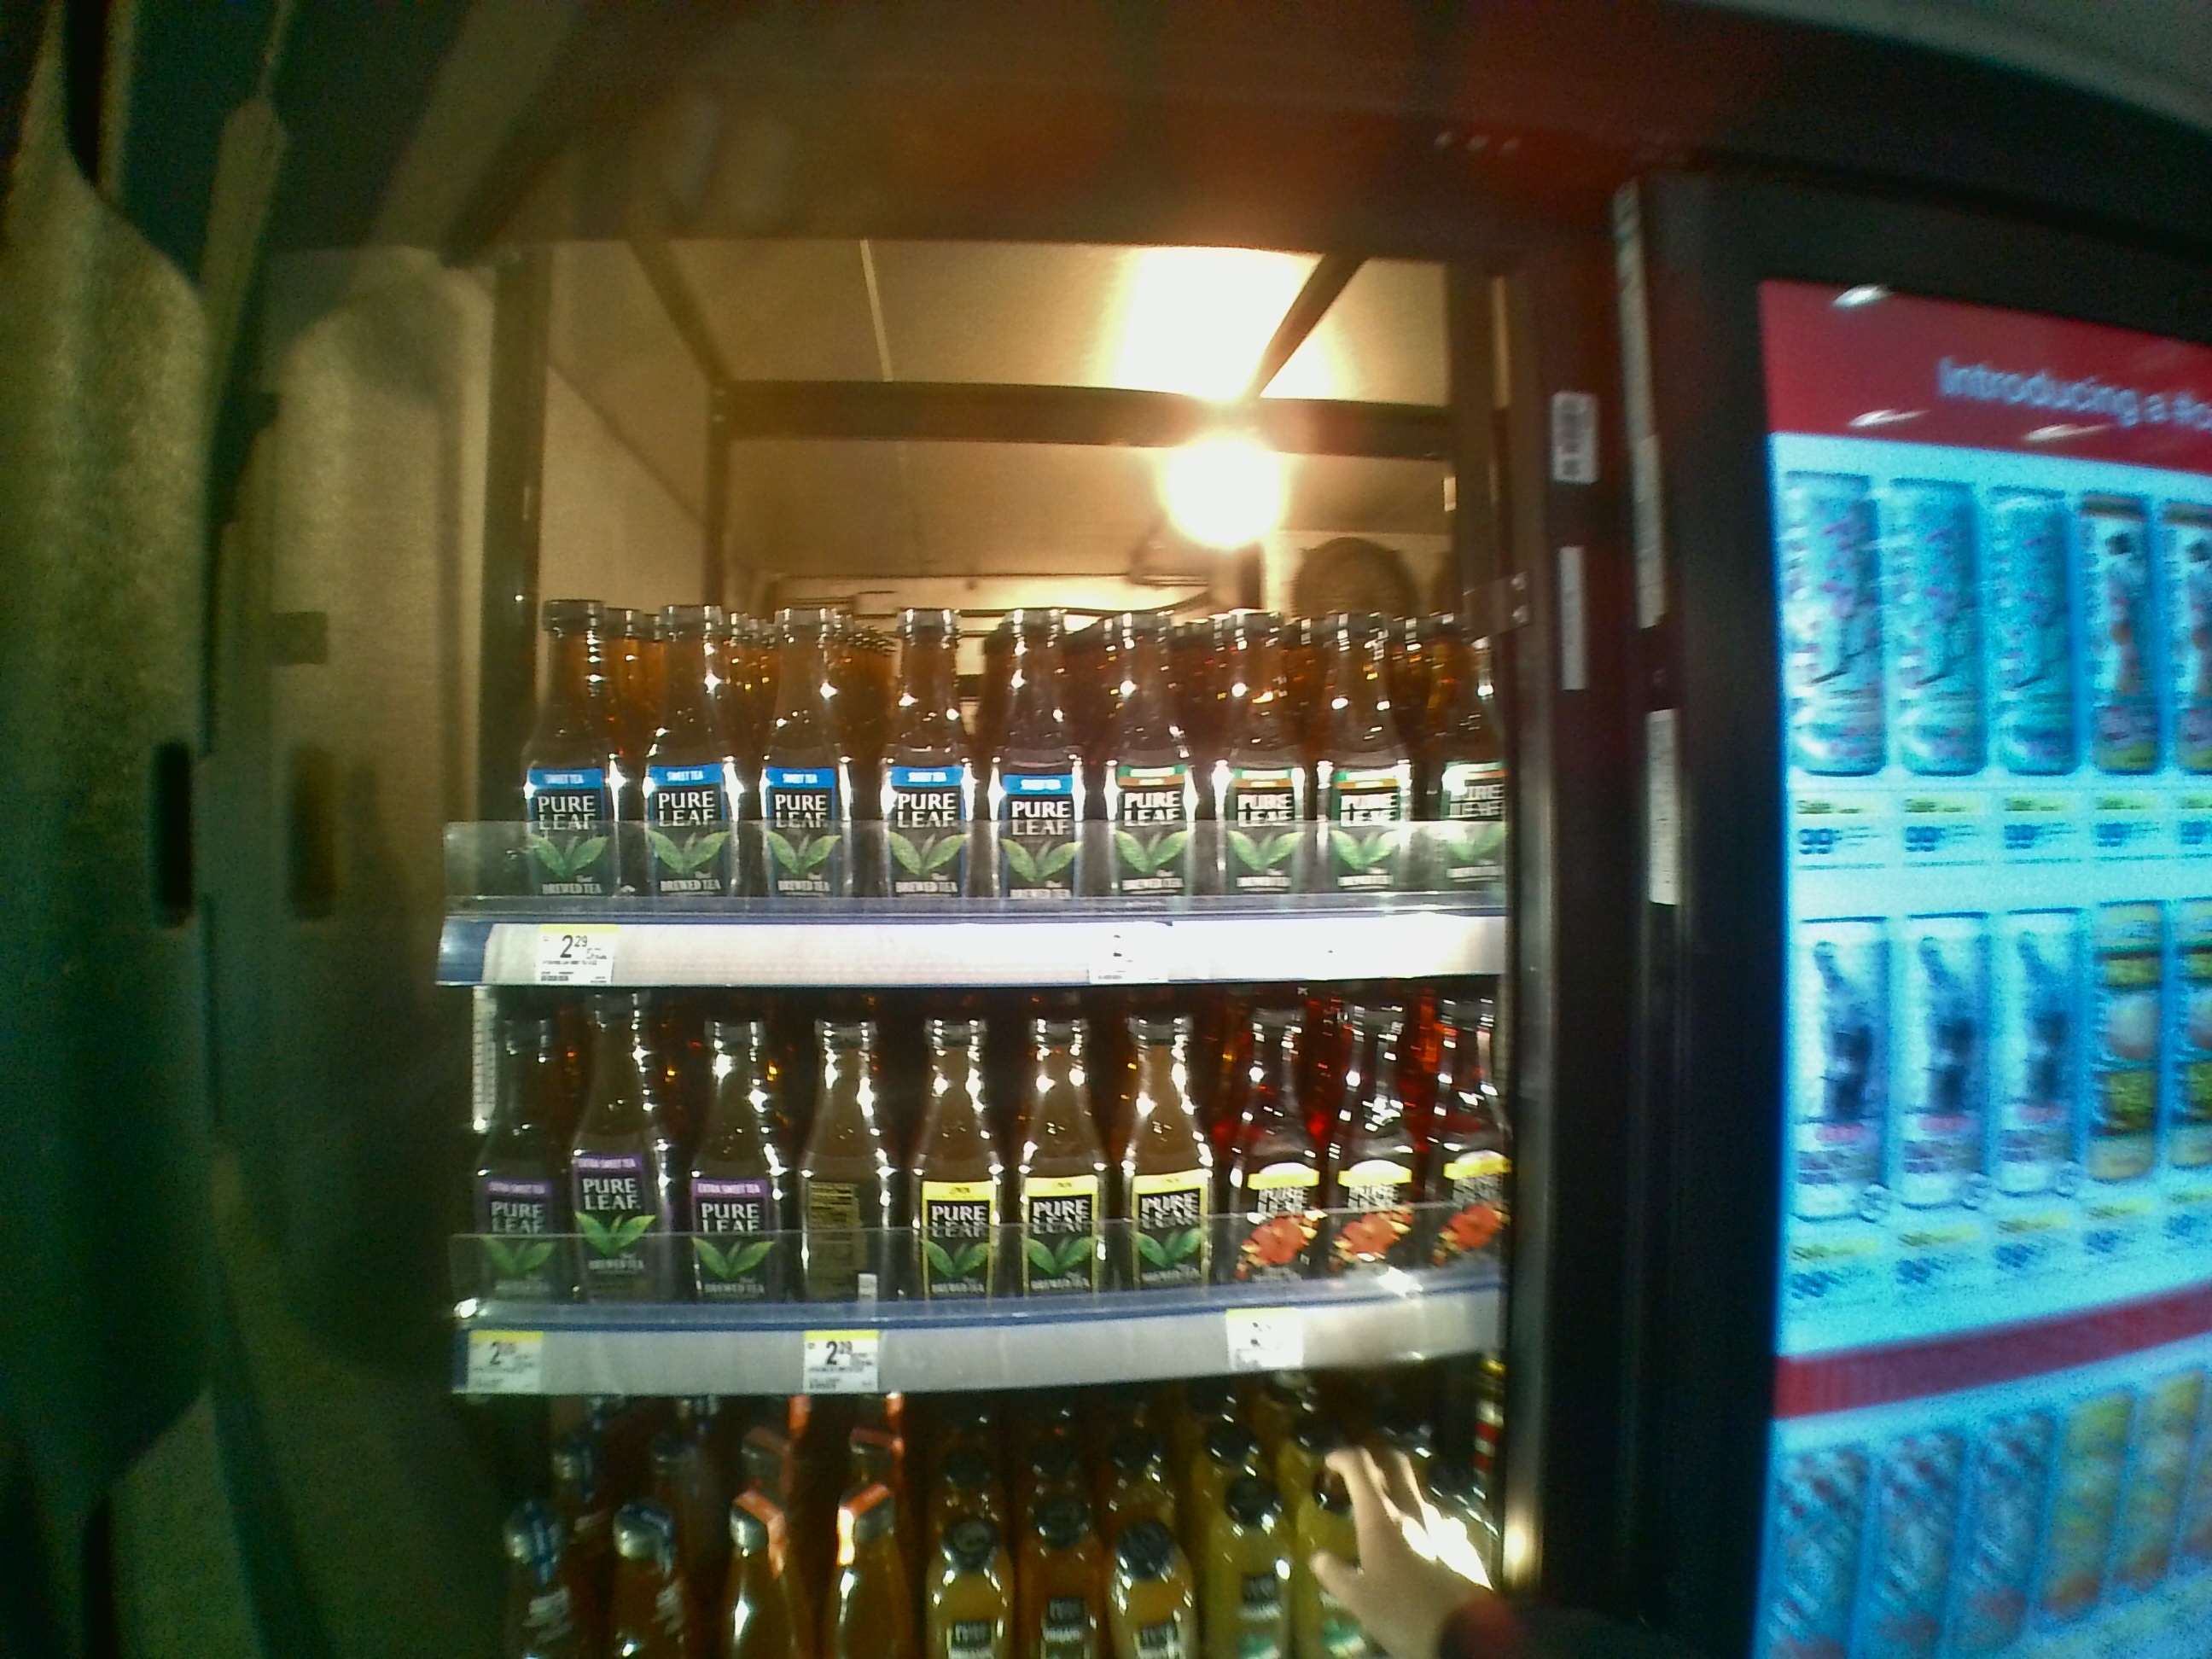shelf: (439, 307, 1514, 978), (441, 990, 1510, 1391)
